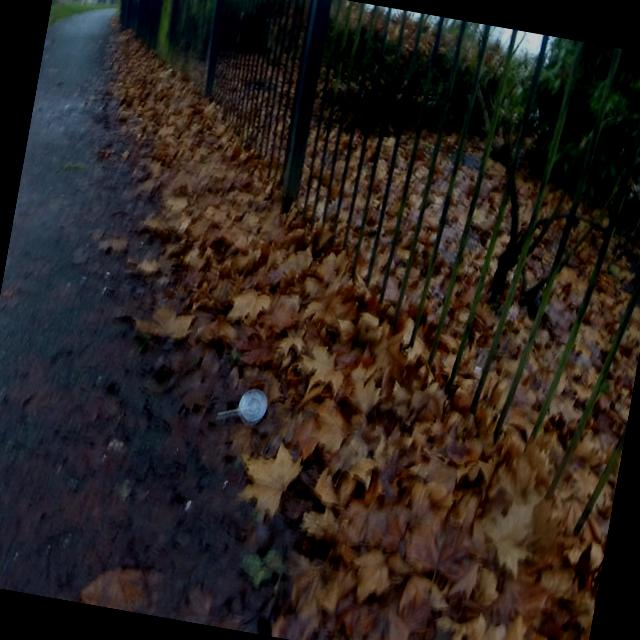Trash: (218, 377, 287, 435)
